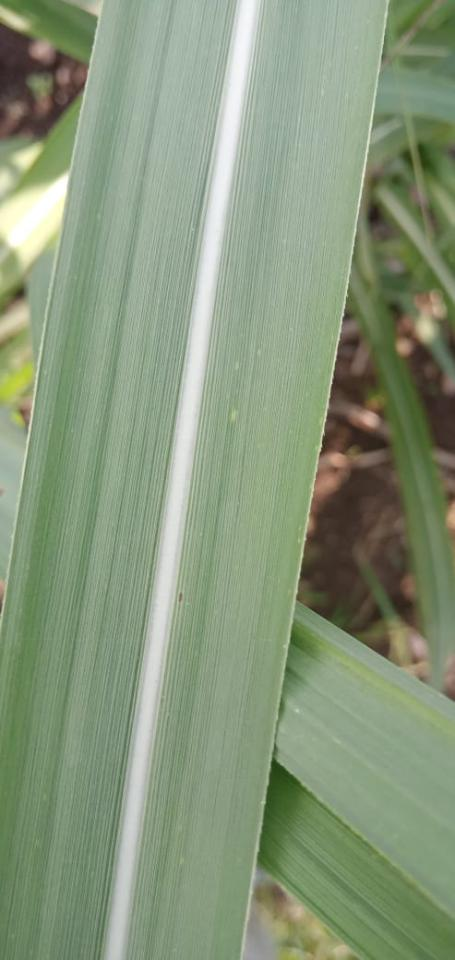Healthy: (123, 0, 390, 959), (0, 1, 237, 959), (273, 599, 454, 917), (256, 760, 454, 959)
